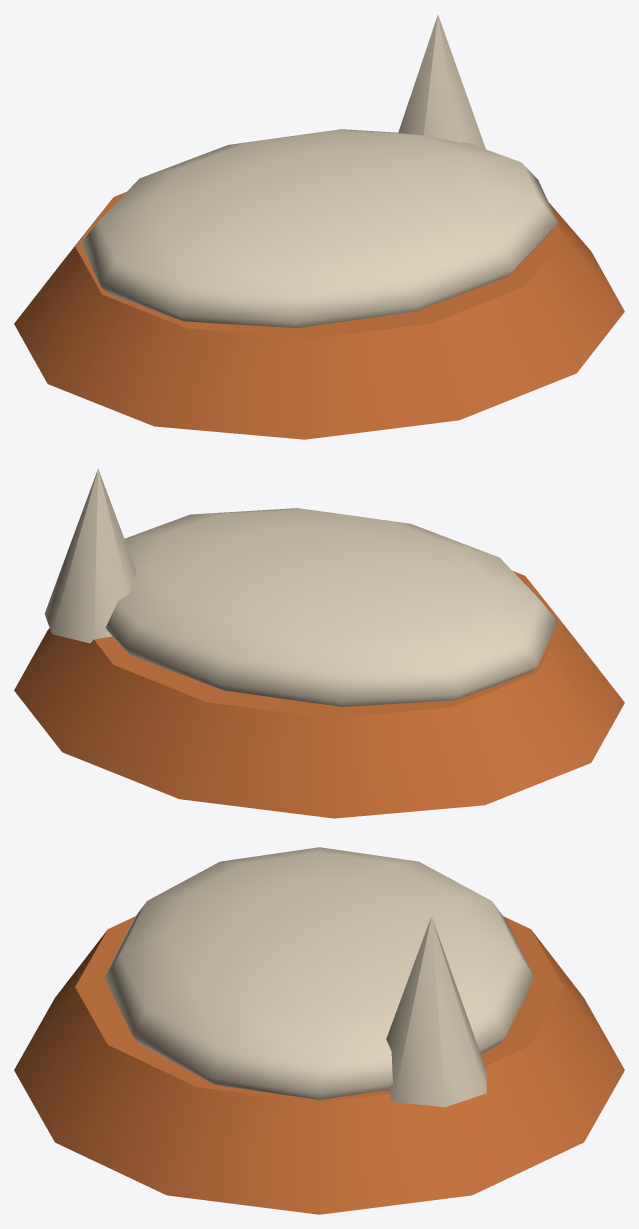
Rendered from home.glb.
The picture shows the model from 3 angles, top to bottom: view 1: azimuth 30°, elevation 25°; view 2: azimuth 150°, elevation 25°; view 3: azimuth 270°, elevation 25°; orthographic projection. The views are drawn at different scales.
Visible parts, largest first — view 1: home_cushion, home_base, home_marker; view 2: home_cushion, home_base, home_marker; view 3: home_base, home_cushion, home_marker.
Part boxes in pixels (x1,y1,x2,y2): home_cushion: (81,129,557,327); home_base: (14,192,624,439); home_marker: (398,15,485,148); home_cushion: (105,508,557,706); home_base: (14,571,624,818); home_marker: (44,468,136,643); home_base: (14,916,624,1214); home_cushion: (104,847,534,1099); home_marker: (386,916,486,1107).
Bounding box in the file's own units: 1.34 × 0.53 × 1.2.
